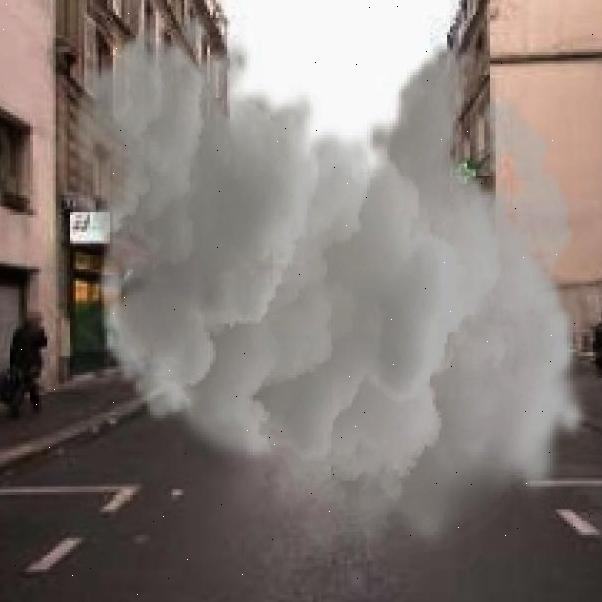smoke: (70, 7, 590, 567)
